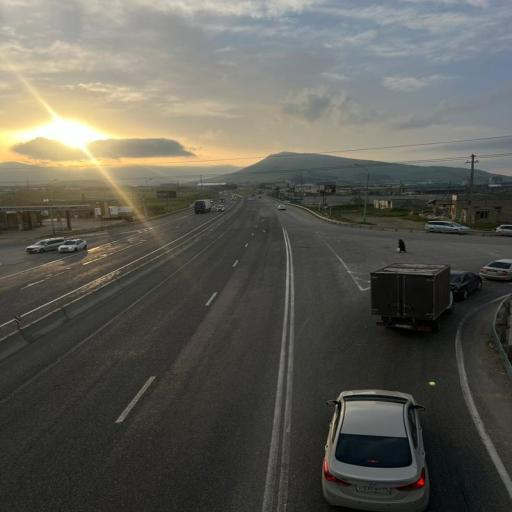bottle: (320, 380, 441, 512), (425, 221, 469, 234)
ramp: (0, 198, 511, 511)
